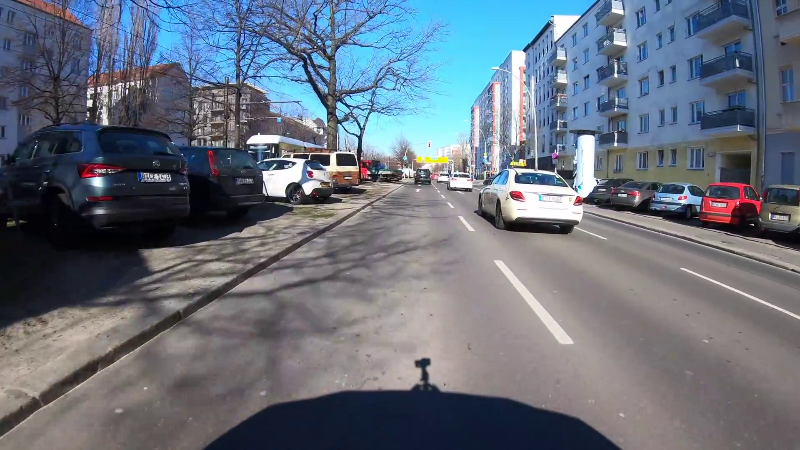Plate: (136, 169, 173, 183), (768, 212, 789, 222), (538, 194, 564, 202)
